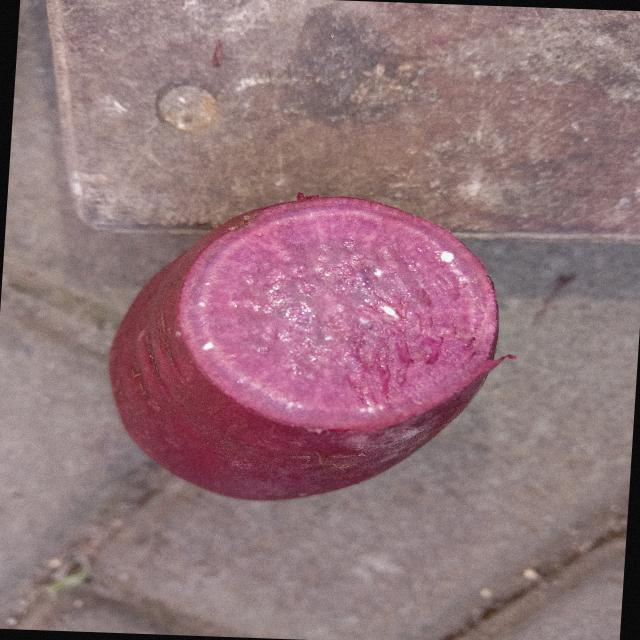Healthy Sweet Potato: (178, 195, 498, 430)
